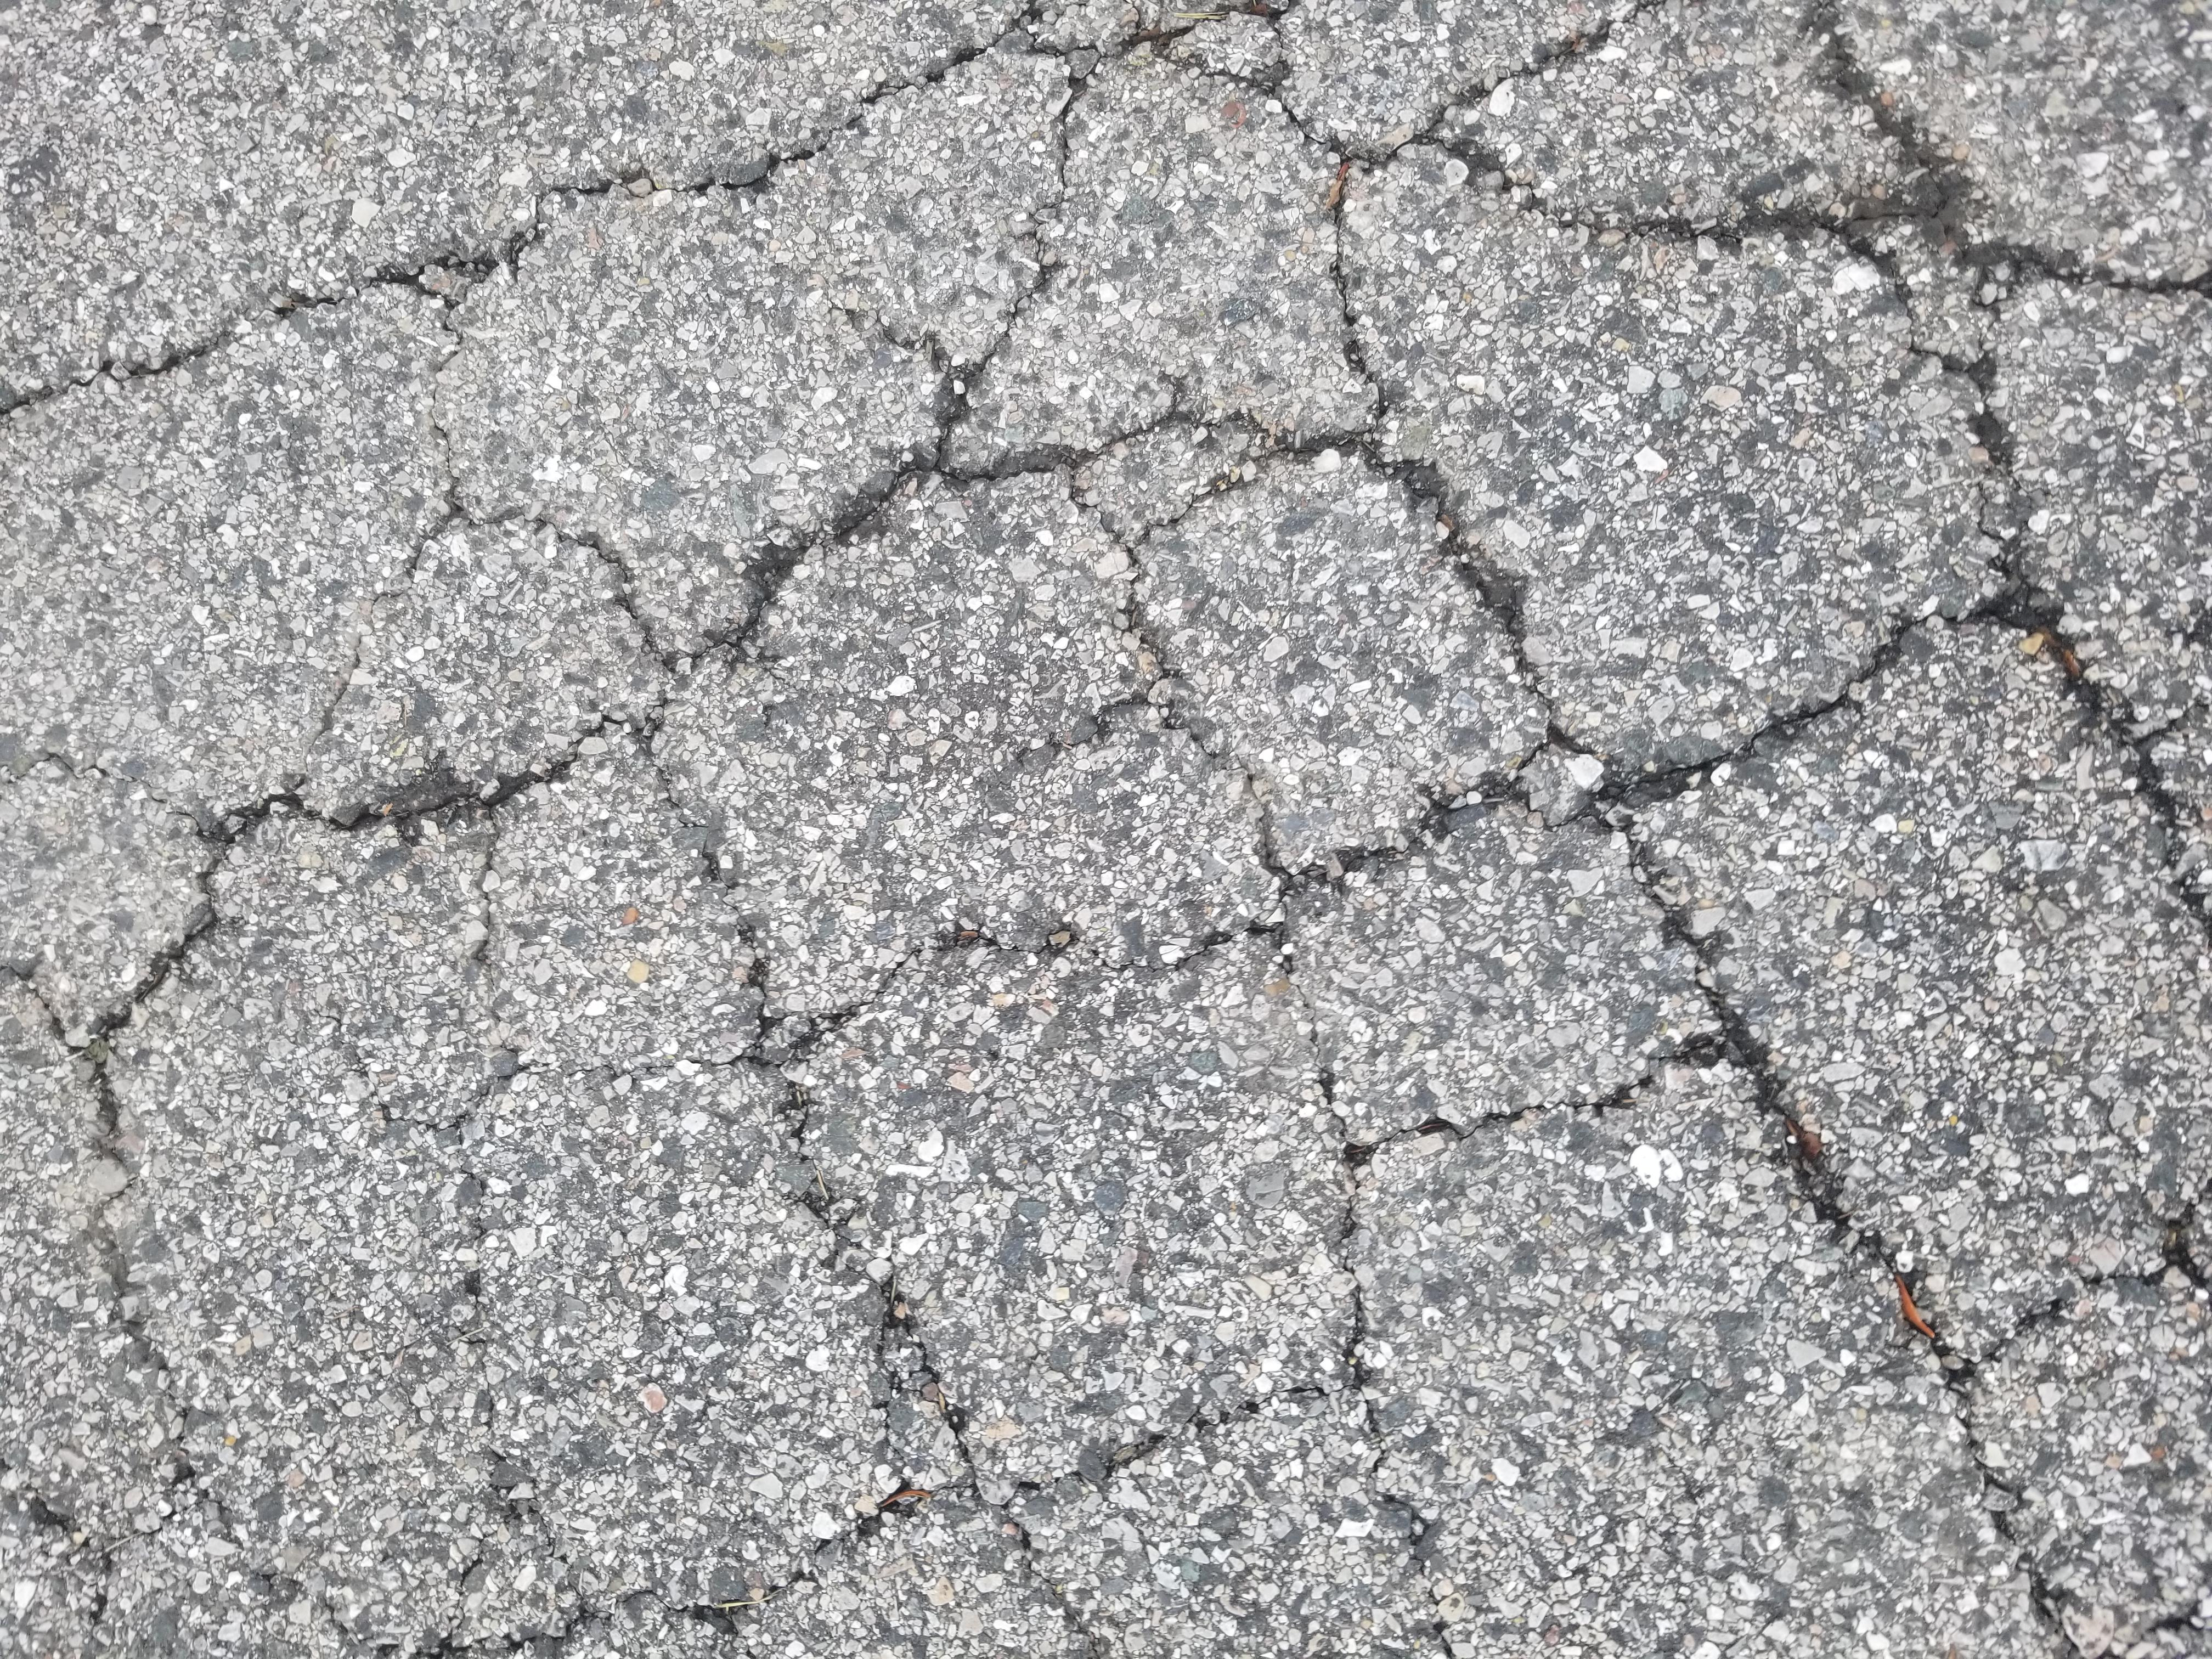alligator-crack: (16, 14, 2212, 1659)
